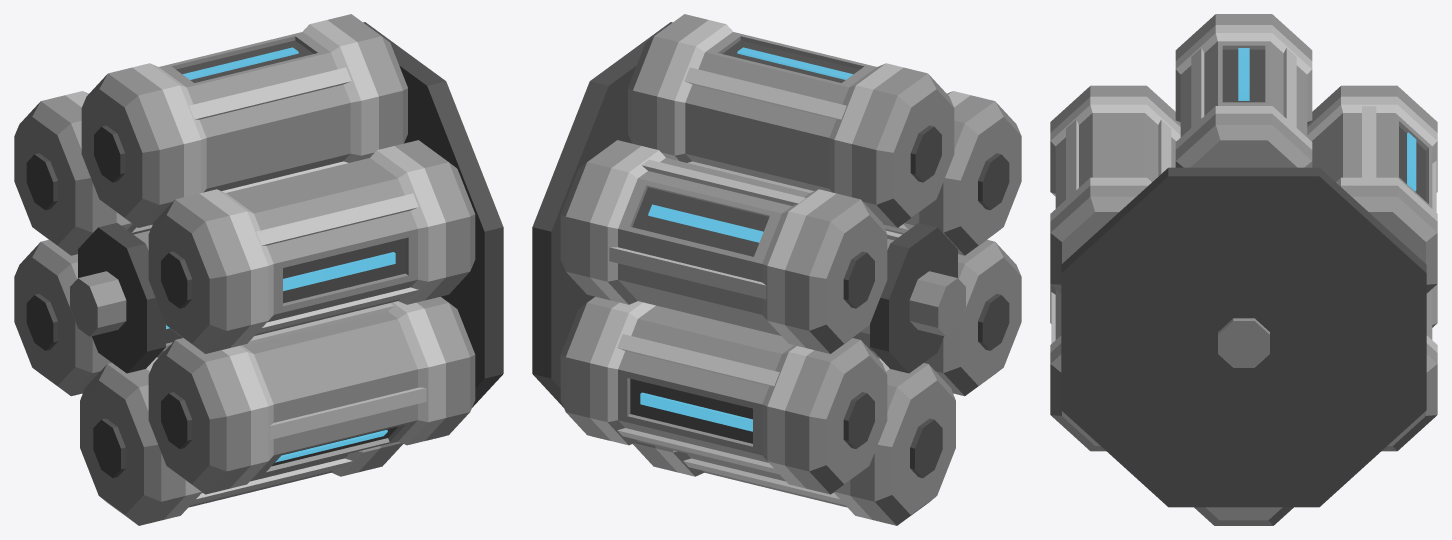
Rendered from SM_GLA01_Drum.fbx.
The picture shows the model from 3 angles, left to right: view 1: azimuth 30°, elevation 25°; view 2: azimuth 150°, elevation 25°; view 3: azimuth 270°, elevation 25°; orthographic projection. The views are drawn at different scales.
Visible parts, largest first — view 1: SM_Grenade6, SM_Grenade1, SM_Grenade5, SM_GLA01_Drum, SM_Grenade4, SM_Grenade2, SM_Grenade3; view 2: SM_Grenade2, SM_Grenade1, SM_Grenade3, SM_GLA01_Drum, SM_Grenade4, SM_Grenade6, SM_Grenade5; view 3: SM_GLA01_Drum, SM_Grenade1, SM_Grenade2, SM_Grenade6, SM_Grenade5, SM_Grenade3, SM_Grenade4.
Boxes of the visible parts, <box> form: SM_Grenade6: <box>148,140,475,353</box>; SM_Grenade1: <box>81,14,407,227</box>; SM_Grenade5: <box>148,296,475,494</box>; SM_GLA01_Drum: <box>70,22,503,438</box>; SM_Grenade4: <box>80,357,402,525</box>; SM_Grenade2: <box>14,91,152,255</box>; SM_Grenade3: <box>14,230,182,396</box>; SM_Grenade2: <box>560,140,887,353</box>; SM_Grenade1: <box>628,14,954,227</box>; SM_Grenade3: <box>560,296,887,494</box>; SM_GLA01_Drum: <box>532,22,965,438</box>; SM_Grenade4: <box>633,357,955,525</box>; SM_Grenade6: <box>883,91,1021,255</box>; SM_Grenade5: <box>853,230,1021,396</box>; SM_GLA01_Drum: <box>1061,167,1426,507</box>; SM_Grenade1: <box>1175,14,1312,167</box>; SM_Grenade2: <box>1307,85,1437,293</box>; SM_Grenade6: <box>1050,85,1180,293</box>; SM_Grenade5: <box>1050,284,1105,451</box>; SM_Grenade3: <box>1382,284,1437,451</box>; SM_Grenade4: <box>1194,507,1293,525</box>.
Bounding box in the file's own units: 12.69 × 15.91 × 13.91.
